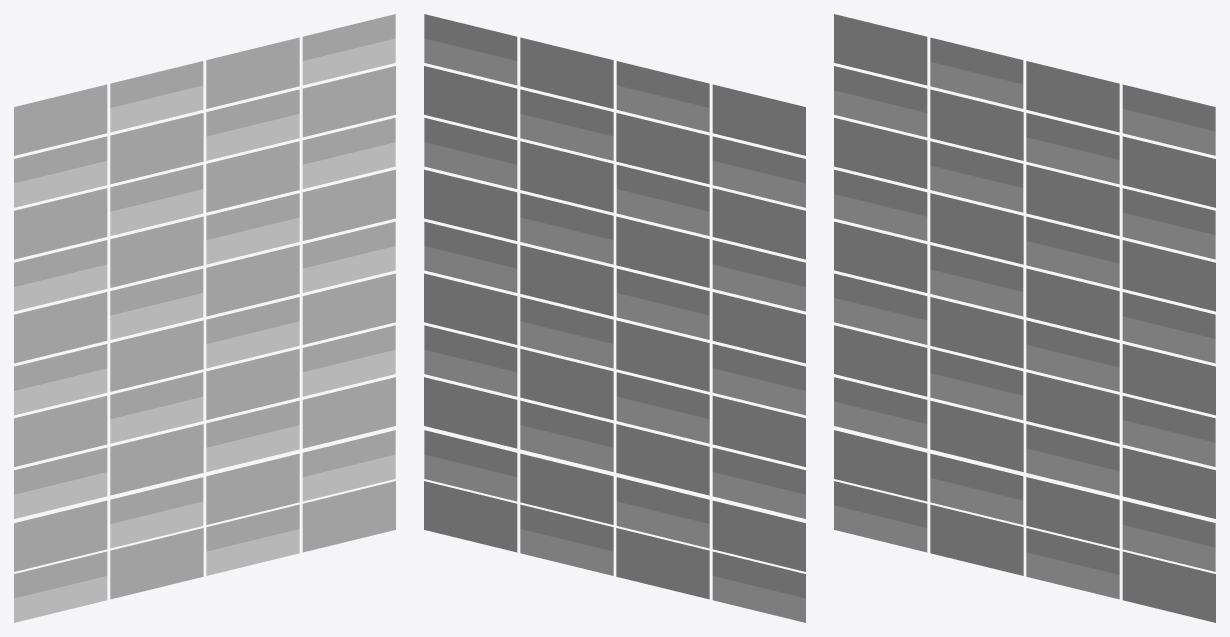
Rendered from southtowncypress.gltf.
3 views of the same model, side by side, from view 1: azimuth 30°, elevation 25°; view 2: azimuth 150°, elevation 25°; view 3: azimuth 330°, elevation 25° (orthographic).
Parts seen in each view (by area): view 1: south; view 2: south; view 3: south.
Boxes of the visible parts, <box> form: south: <box>14,14,395,622</box>; south: <box>424,14,805,622</box>; south: <box>834,14,1215,622</box>.
Size of the model in its own units: 0.2077 by 0.2682 by 0.
Materials: 60 (60 with a texture image).
